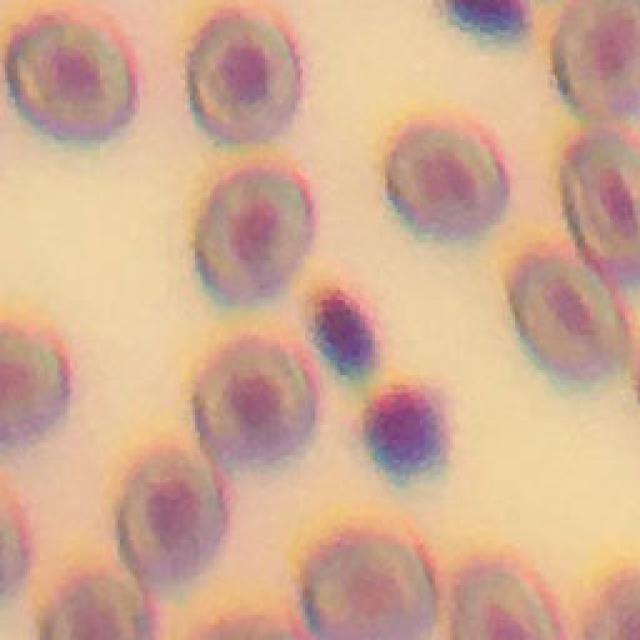RBC: (8, 12, 138, 140), (195, 338, 320, 465), (198, 168, 315, 302), (188, 10, 302, 142), (510, 255, 628, 380), (302, 532, 438, 640), (388, 120, 510, 240), (120, 452, 228, 584), (562, 130, 640, 285), (0, 325, 70, 446), (455, 570, 563, 640), (40, 575, 156, 640)
WBC: (368, 388, 445, 475), (315, 292, 375, 375), (450, 0, 528, 32)
